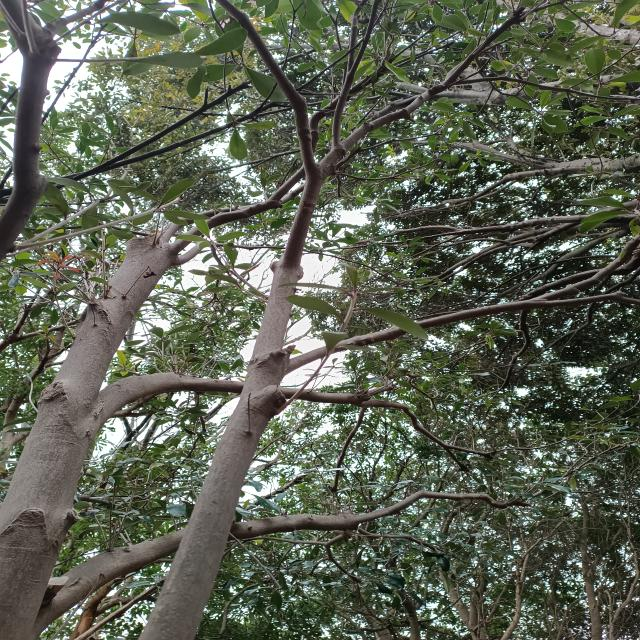Branch: (139, 175, 322, 640), (34, 491, 534, 632), (0, 240, 172, 640), (0, 0, 60, 257), (96, 373, 244, 432), (276, 387, 373, 407)
Twig: (288, 300, 536, 374), (216, 0, 316, 179), (75, 81, 252, 182), (317, 78, 456, 179), (100, 102, 276, 172), (172, 167, 304, 259), (531, 233, 640, 301), (450, 7, 525, 81), (357, 400, 450, 448), (459, 76, 637, 99), (450, 439, 565, 458), (536, 287, 640, 308), (355, 527, 440, 551), (160, 210, 214, 240), (327, 548, 361, 584), (230, 538, 324, 549), (445, 447, 470, 471), (321, 531, 353, 548), (174, 246, 203, 264), (367, 377, 393, 396), (46, 172, 83, 184), (47, 179, 75, 191)
